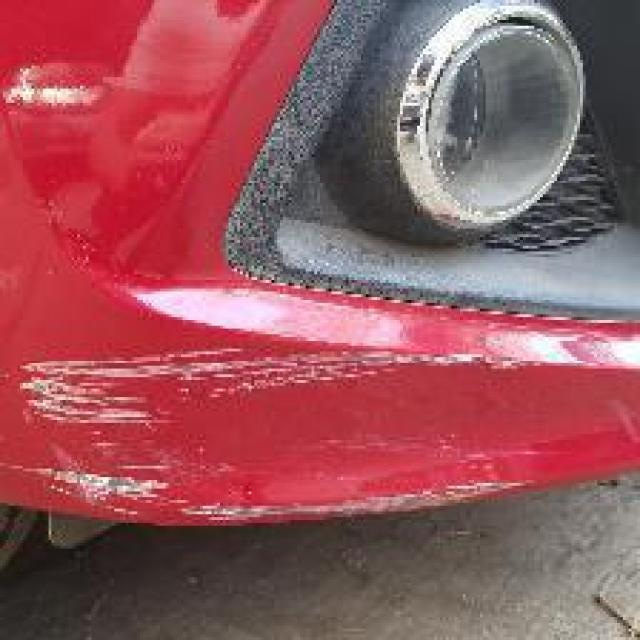damaged: (11, 346, 572, 518), (0, 71, 114, 114)
